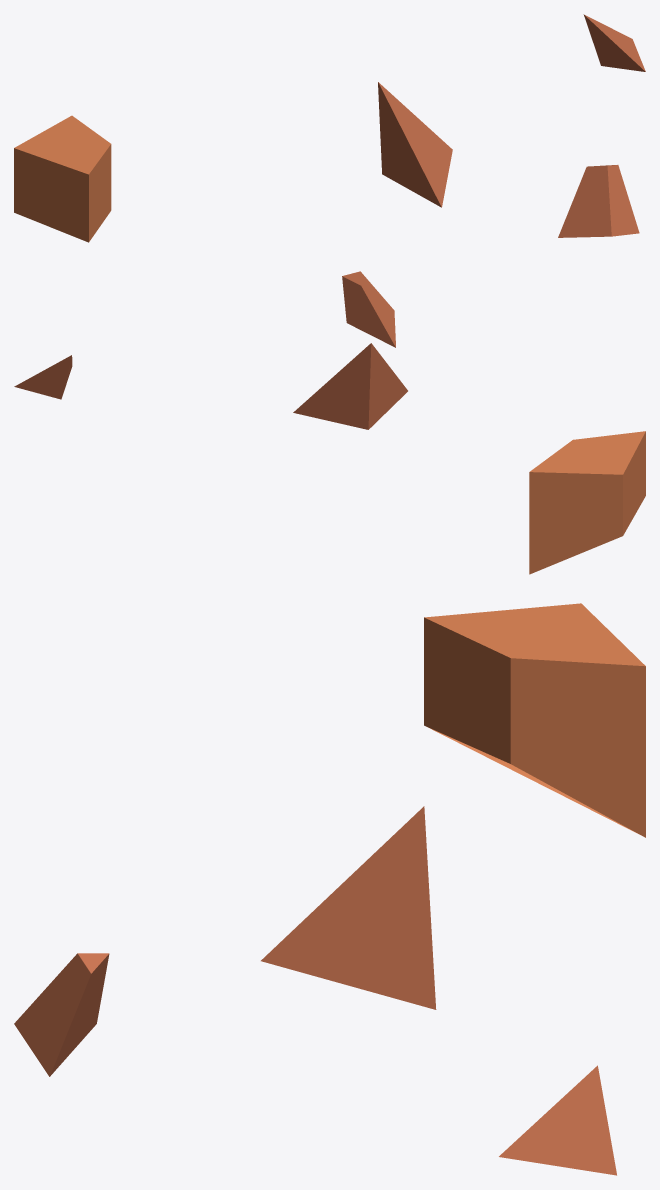
The model's file is Brick_Pile_s_04.fbx.
3 renders of one model, top to bottom at view 1: azimuth 30°, elevation 25°; view 2: azimuth 150°, elevation 25°; view 3: azimuth 270°, elevation 25°, orthographic. The views are drawn at different scales.
Parts seen in each view (by area): view 1: Brick_Pile_s_04; view 2: Brick_Pile_s_04; view 3: Brick_Pile_s_04.
Boxes of the visible parts, bbox=[...] form: Brick_Pile_s_04: bbox=[14, 14, 645, 242]; Brick_Pile_s_04: bbox=[14, 271, 645, 574]; Brick_Pile_s_04: bbox=[14, 603, 645, 1175].
Bounding box in the file's own units: 54.37 × 11.16 × 29.74.
